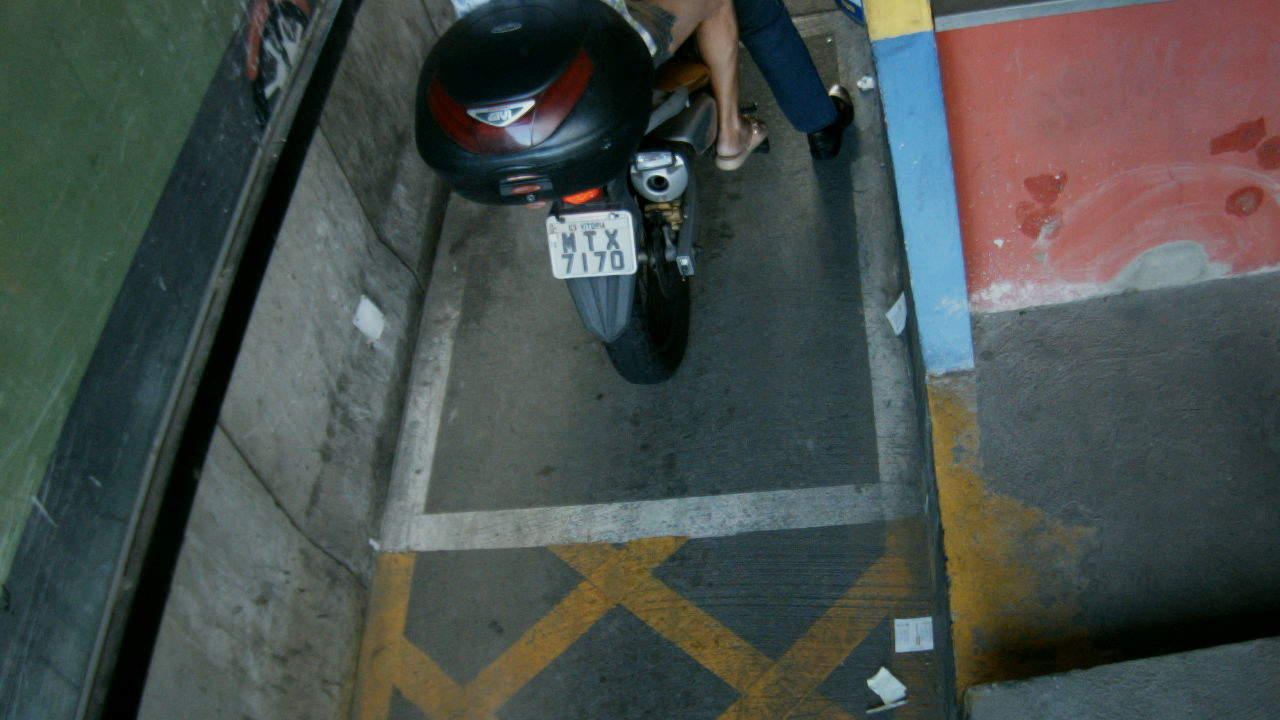placa: (545, 209, 639, 280)
